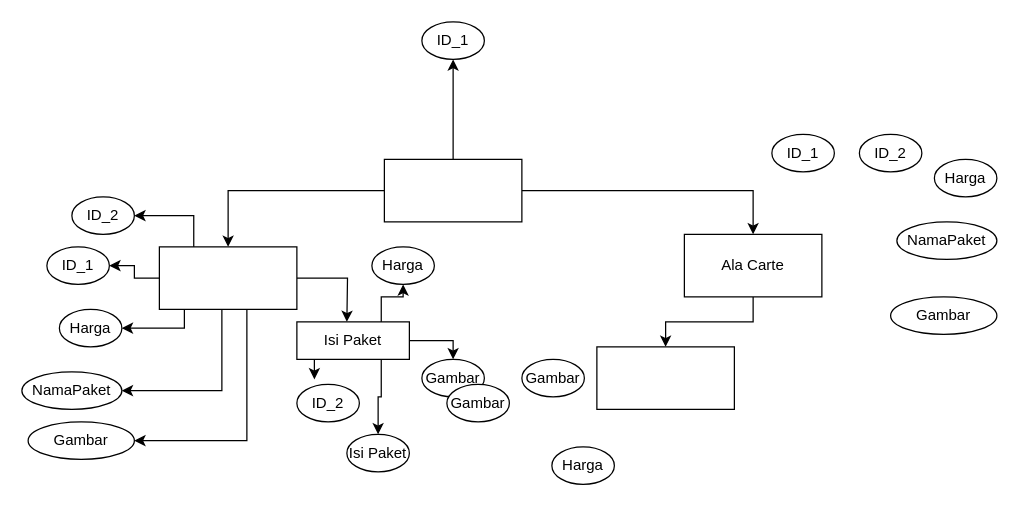
This 1019x506 diagram has some shape labels left out. Each missing label, with the centre of its shape:
Menu: [452,190]
Promotion Menu: [227,277]
Varian: [665,377]
